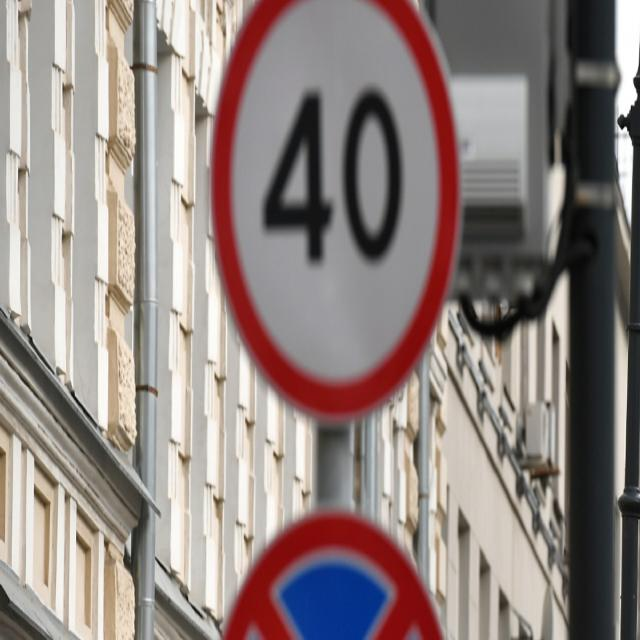no stopping: (216, 505, 452, 640)
speed limit 40: (213, 0, 462, 427)
